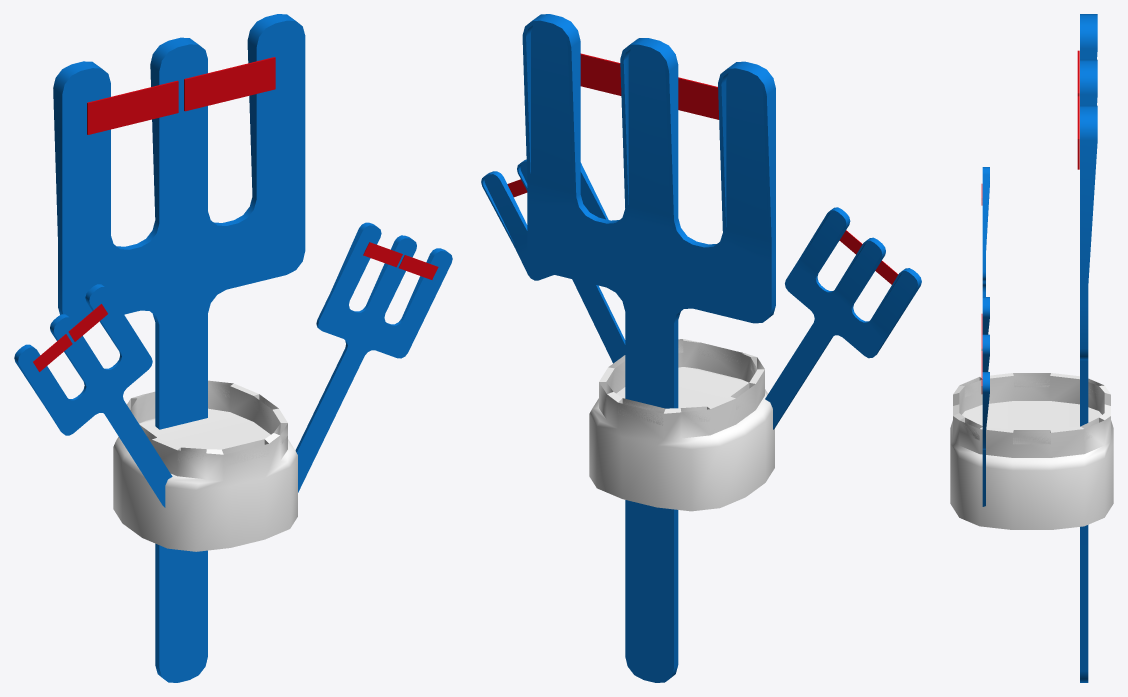
Rendered from FastTower_Head.fbx.
3 renders of one model, left to right at view 1: azimuth 30°, elevation 25°; view 2: azimuth 150°, elevation 25°; view 3: azimuth 270°, elevation 25°, orthographic. The views are drawn at different scales.
Parts seen in each view (by area): view 1: Cube.011; view 2: Cube.011; view 3: Cube.011.
Part boxes in pixels (x1,y1,x2,y2): Cube.011: (14,14,452,682); Cube.011: (481,14,921,682); Cube.011: (950,14,1113,682).
Size of the model in its own units: 288 by 402 by 96.9.
